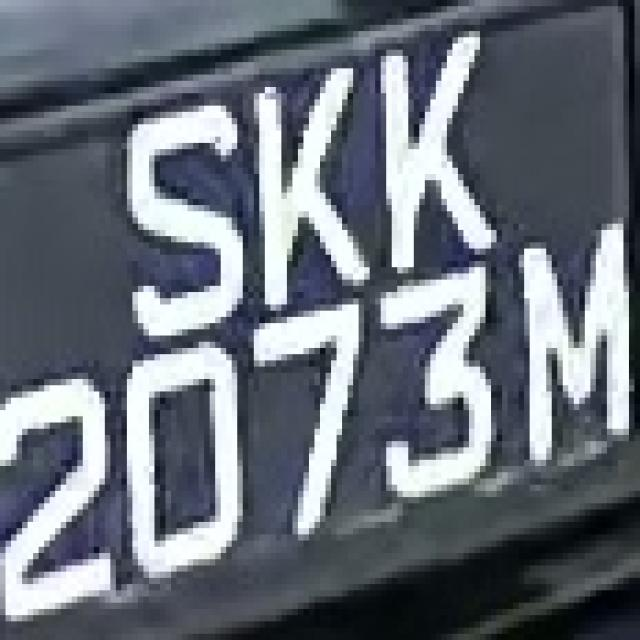0: (105, 329, 243, 584)
2: (5, 354, 138, 628)
3: (375, 255, 497, 510)
7: (243, 298, 386, 547)
K: (237, 62, 381, 317), (358, 25, 508, 267)
M: (4, 2, 6, 4)
S: (105, 75, 254, 342)
